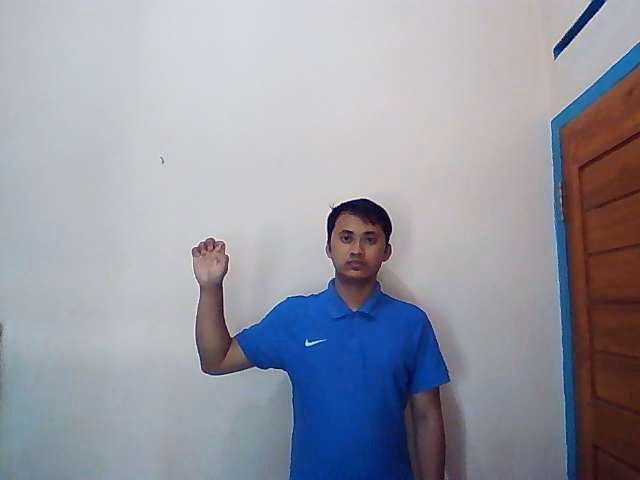E: (190, 237, 231, 285)
